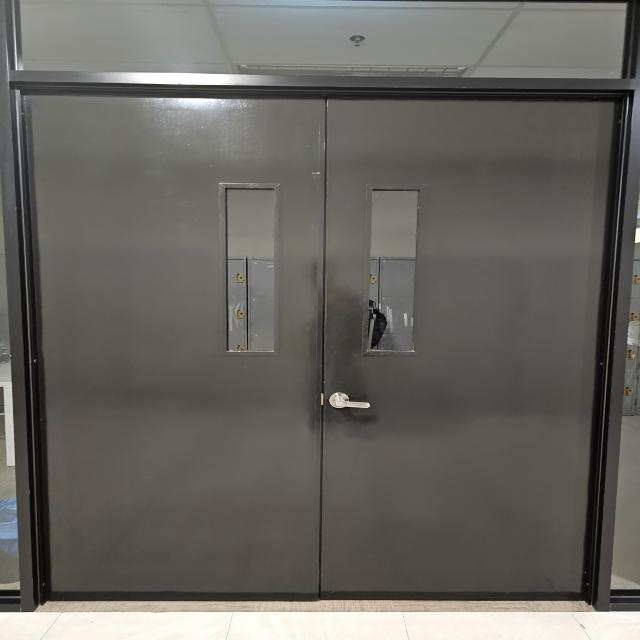door: (13, 84, 631, 606)
